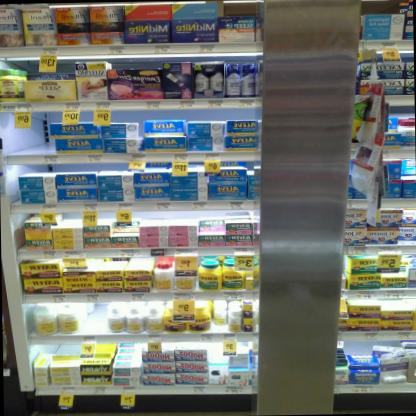empty_space: (10, 119, 48, 157), (84, 302, 105, 336)
